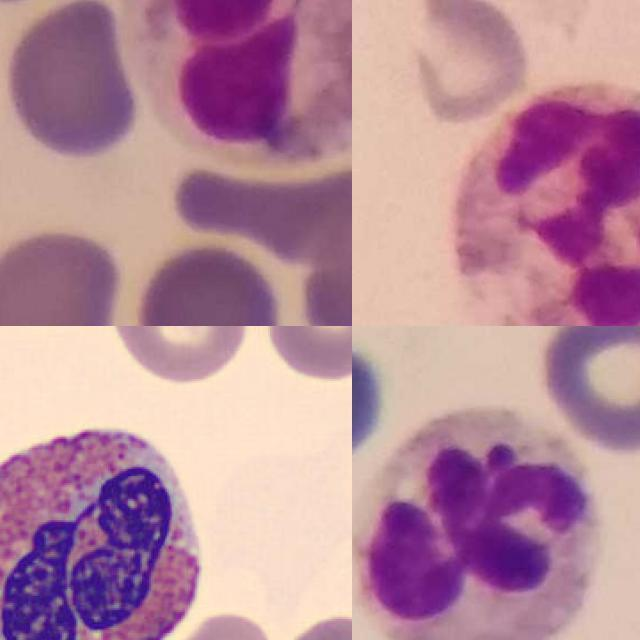Eosinophil: (0, 405, 216, 640), (119, 0, 352, 163)
Neutrophil: (352, 407, 601, 640), (449, 84, 640, 326)
RBC: (104, 326, 255, 386), (259, 326, 352, 384), (133, 608, 282, 640)
